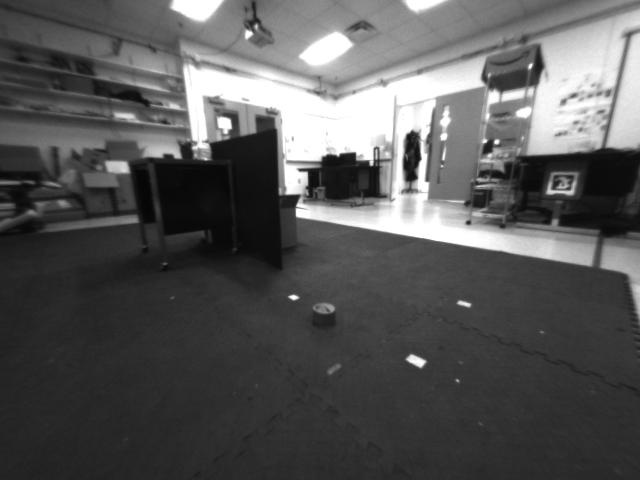dogtoy: (306, 297, 342, 333)
